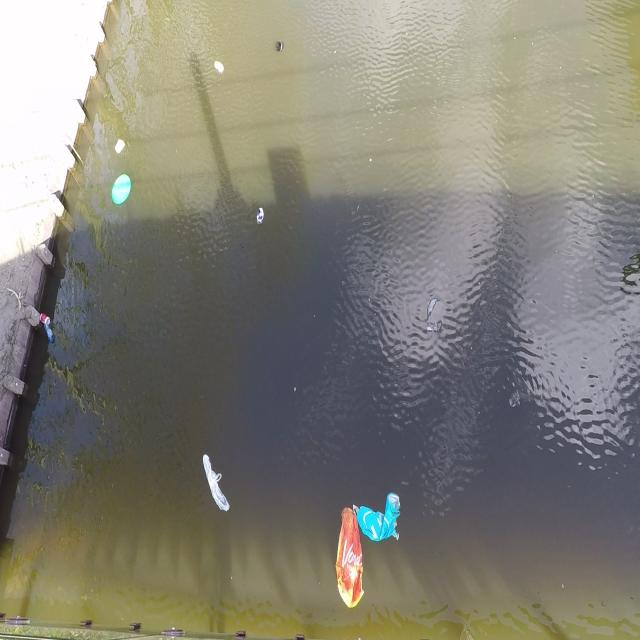Autre plastique: (108, 168, 134, 210)
Bouteille plastique: (42, 326, 56, 348)
Non plastique: (255, 199, 271, 233), (113, 132, 129, 159), (40, 307, 57, 330), (210, 56, 228, 76)
Sac plastique: (330, 502, 366, 614), (197, 450, 235, 520), (355, 491, 404, 542), (420, 290, 450, 340)
